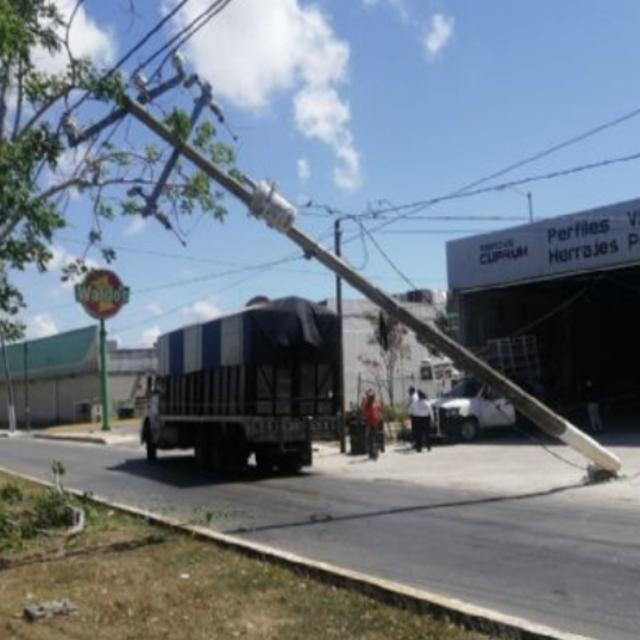Inclined Pole: (54, 54, 629, 467)
